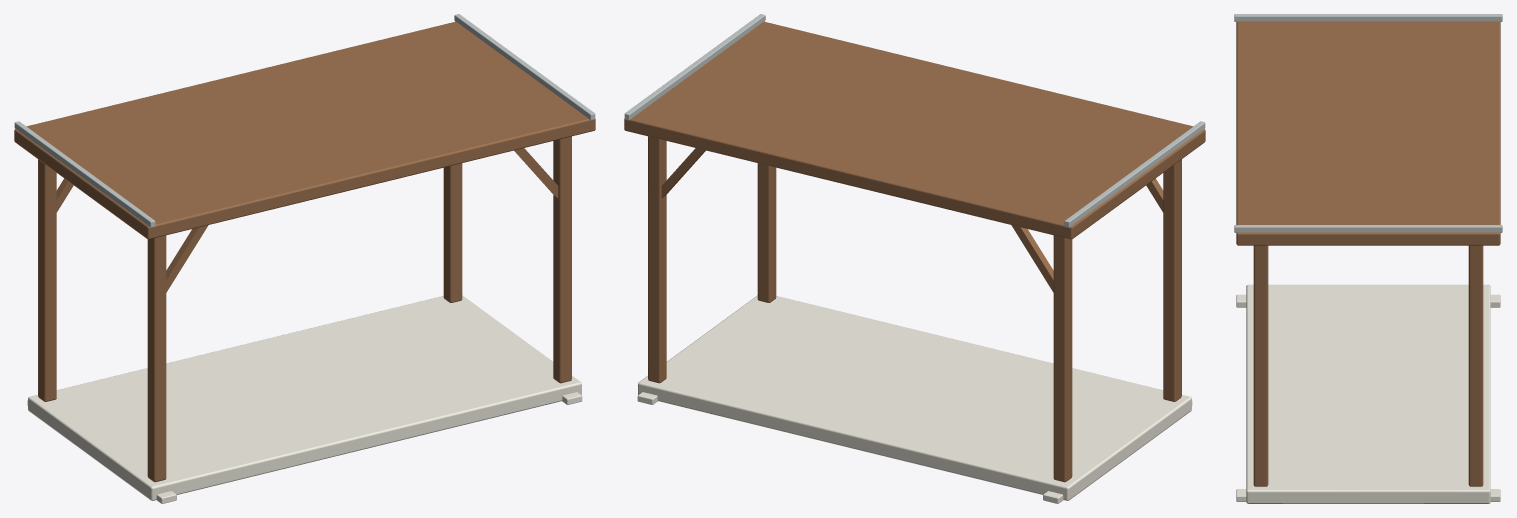
File: tea-garden-and-processing-house-tea-garden-and-process-76ee93f3__30749.glb
The picture shows the model from 3 angles, left to right: view 1: azimuth 30°, elevation 25°; view 2: azimuth 150°, elevation 25°; view 3: azimuth 270°, elevation 25°; orthographic projection.
Visible parts, largest first — view 1: tea-garden-and-processing-house-covered-leaf-receiving-bay; view 2: tea-garden-and-processing-house-covered-leaf-receiving-bay; view 3: tea-garden-and-processing-house-covered-leaf-receiving-bay.
Boxes of the visible parts, x1=… form: tea-garden-and-processing-house-covered-leaf-receiving-bay: x1=14, y1=14, x2=595, y2=503; tea-garden-and-processing-house-covered-leaf-receiving-bay: x1=624, y1=14, x2=1205, y2=503; tea-garden-and-processing-house-covered-leaf-receiving-bay: x1=1234, y1=14, x2=1502, y2=503.
Bounding box in the file's own units: 5.2 × 3.17 × 2.74.
